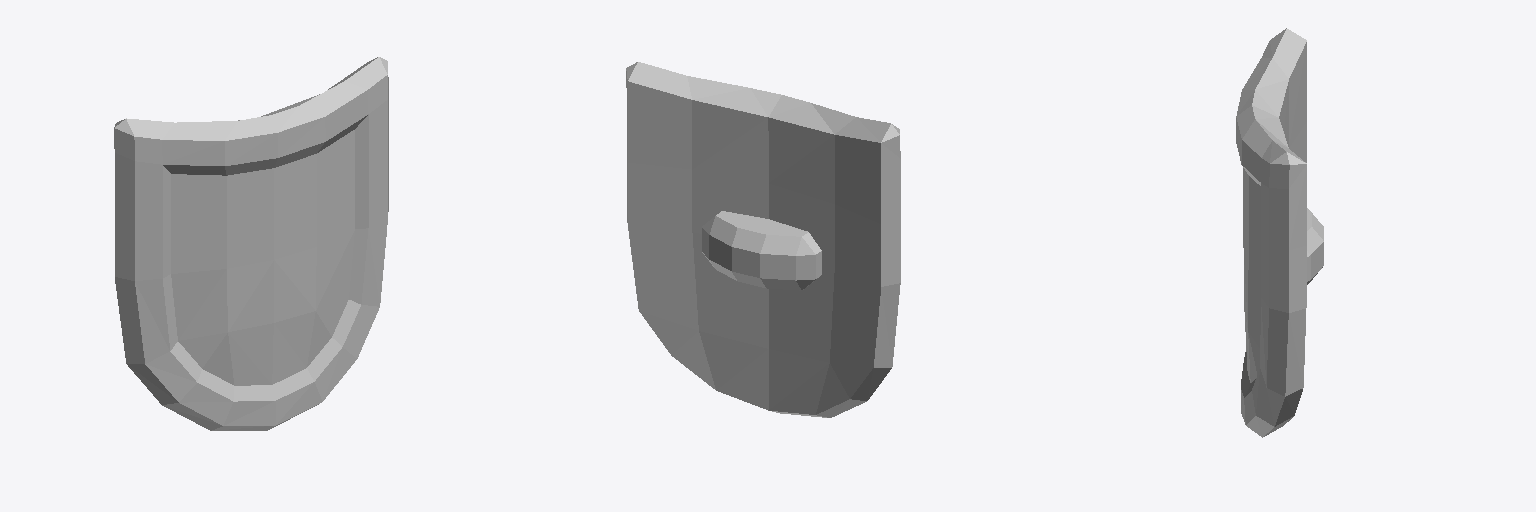
File: shield_badge.obj
The picture shows the model from 3 angles: view 1: azimuth 30°, elevation 25°; view 2: azimuth 150°, elevation 25°; view 3: azimuth 270°, elevation 25°; orthographic projection.
Parts seen in each view (by area): view 1: shield_badge; view 2: shield_badge; view 3: shield_badge.
Boxes of the visible parts, <box> form: shield_badge: <box>114,57,388,430</box>; shield_badge: <box>626,62,900,417</box>; shield_badge: <box>1236,28,1323,437</box>.
Size of the model in its own units: 0.8826 by 1.02 by 0.2459.